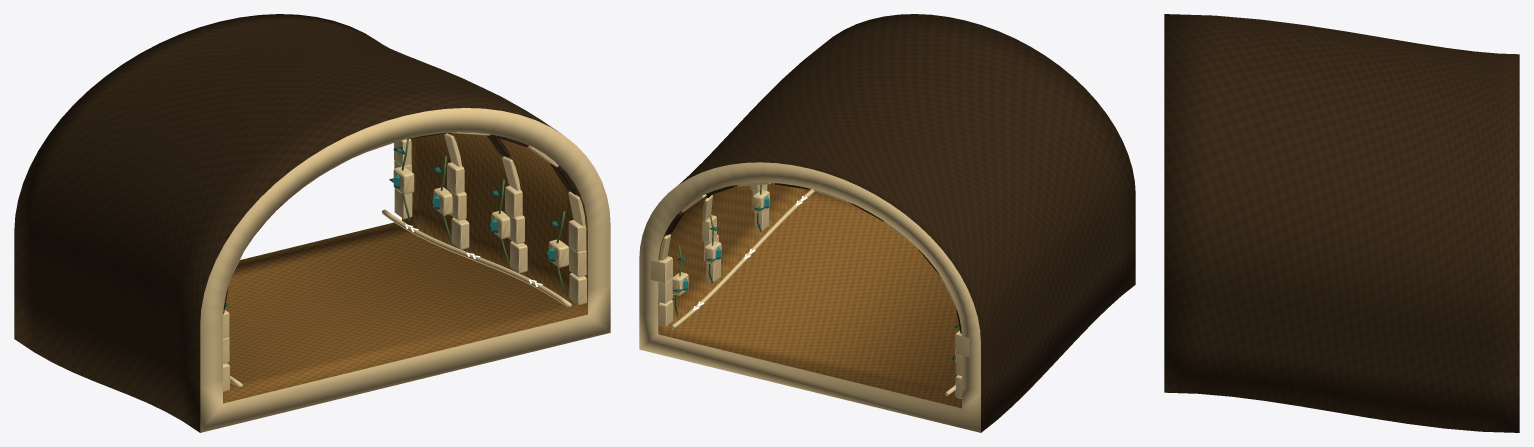
File: grade_down_lod1.glb
3 views of the same model, side by side, from view 1: azimuth 30°, elevation 25°; view 2: azimuth 150°, elevation 25°; view 3: azimuth 270°, elevation 25° (orthographic). The views are drawn at different scales.
Parts seen in each view (by area): view 1: TunnelGeometry.001; view 2: TunnelGeometry.001; view 3: TunnelGeometry.001.
Part boxes in pixels (x1=…): TunnelGeometry.001: x1=14, y1=14, x2=610, y2=432; TunnelGeometry.001: x1=639, y1=14, x2=1135, y2=432; TunnelGeometry.001: x1=1164, y1=14, x2=1519, y2=432.
Bounding box in the file's own units: 15.3 × 11.02 × 12.
7 materials, 2 textured.
